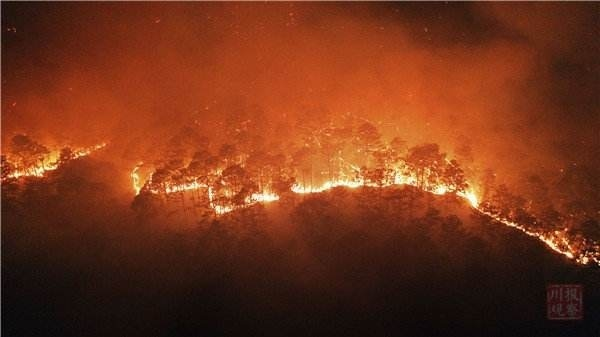fire: (115, 118, 568, 235), (1, 133, 108, 183)
